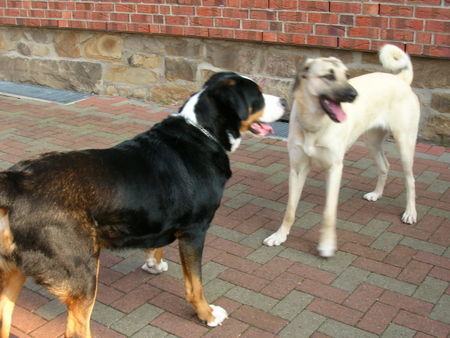kangal: (261, 44, 419, 257)
other_dog_breed: (0, 70, 287, 337)
